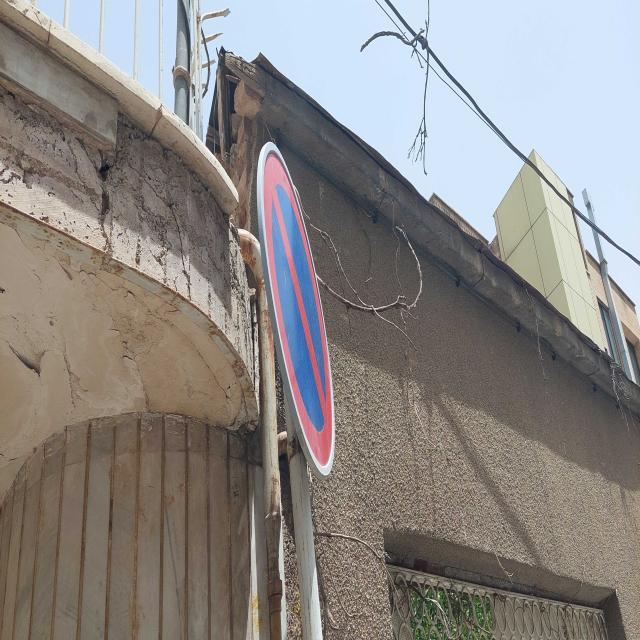forb_stopping: (256, 134, 338, 479)
